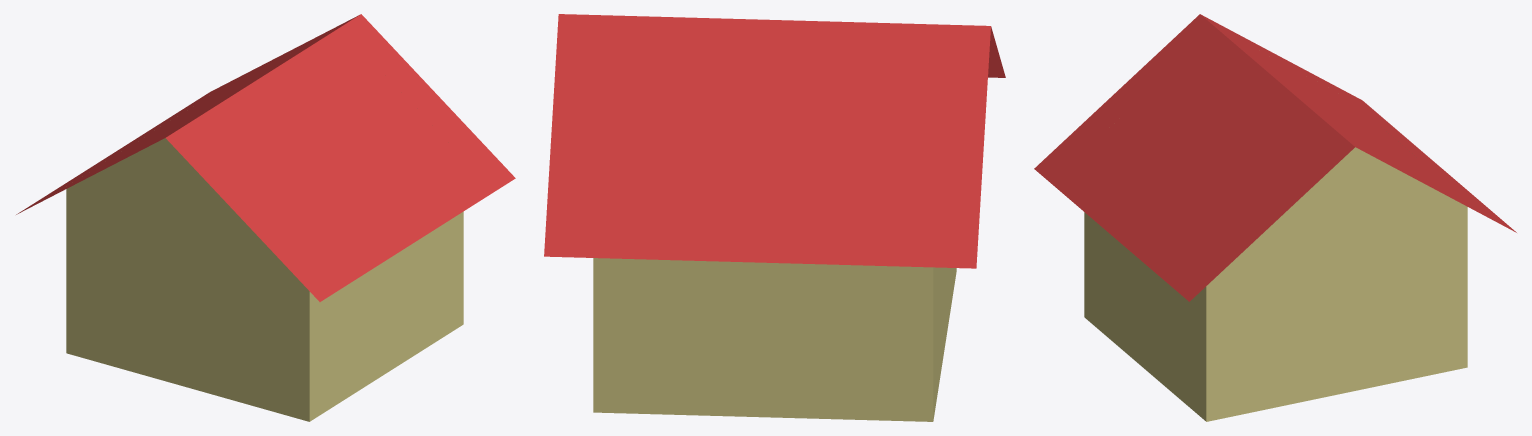
3 renders of one model, left to right at view 1: azimuth 30°, elevation 25°; view 2: azimuth 150°, elevation 25°; view 3: azimuth 270°, elevation 25°, orthographic. The views are drawn at different scales.
Size of the model in its own units: 19.09 by 19.36 by 11.54.
